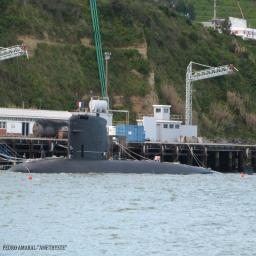submarine: (7, 117, 221, 173)
